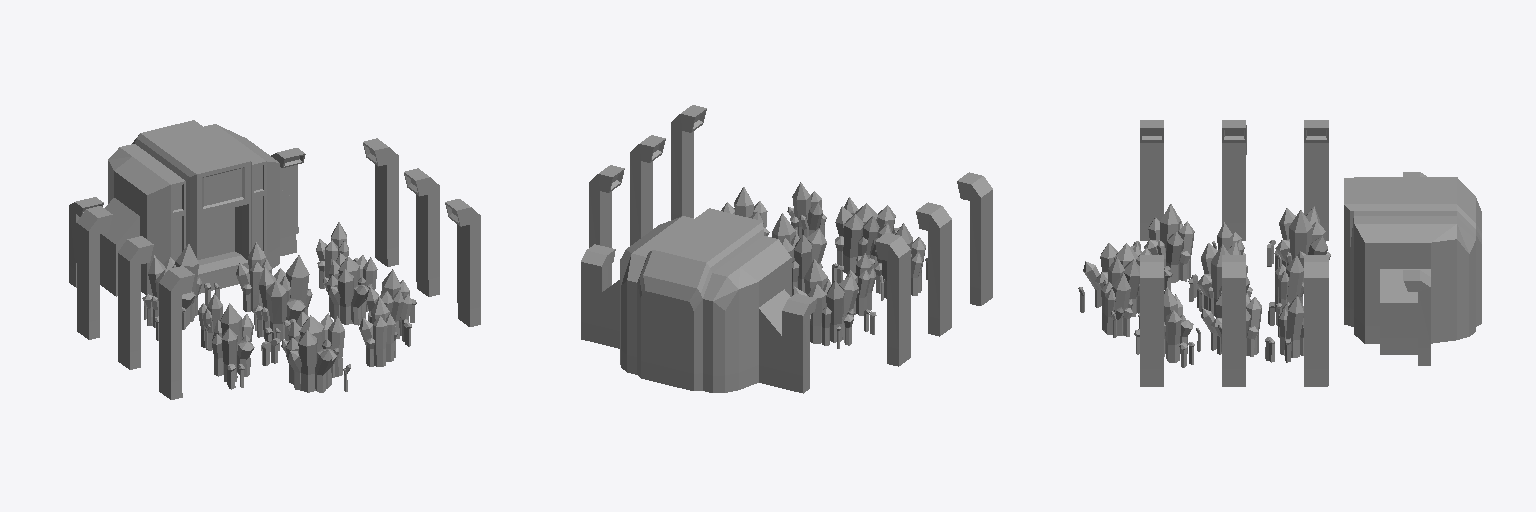
The model's file is cantera.obj.
The picture shows the model from 3 angles: view 1: azimuth 30°, elevation 25°; view 2: azimuth 150°, elevation 25°; view 3: azimuth 270°, elevation 25°; orthographic projection.
Parts seen in each view (by area): view 1: Cube; view 2: Cube; view 3: Cube.
Part boxes in pixels (x1,y1,x2,y2): Cube: (69, 120, 480, 399); Cube: (581, 105, 992, 393); Cube: (1078, 120, 1481, 386).
Size of the model in its own units: 6.97 by 2.78 by 7.85.